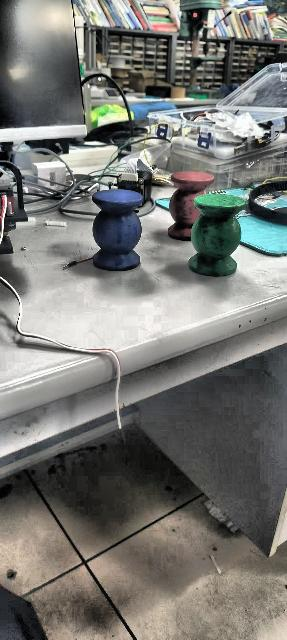blue: (91, 188, 143, 272)
green: (189, 193, 246, 277)
red: (167, 170, 215, 241)
